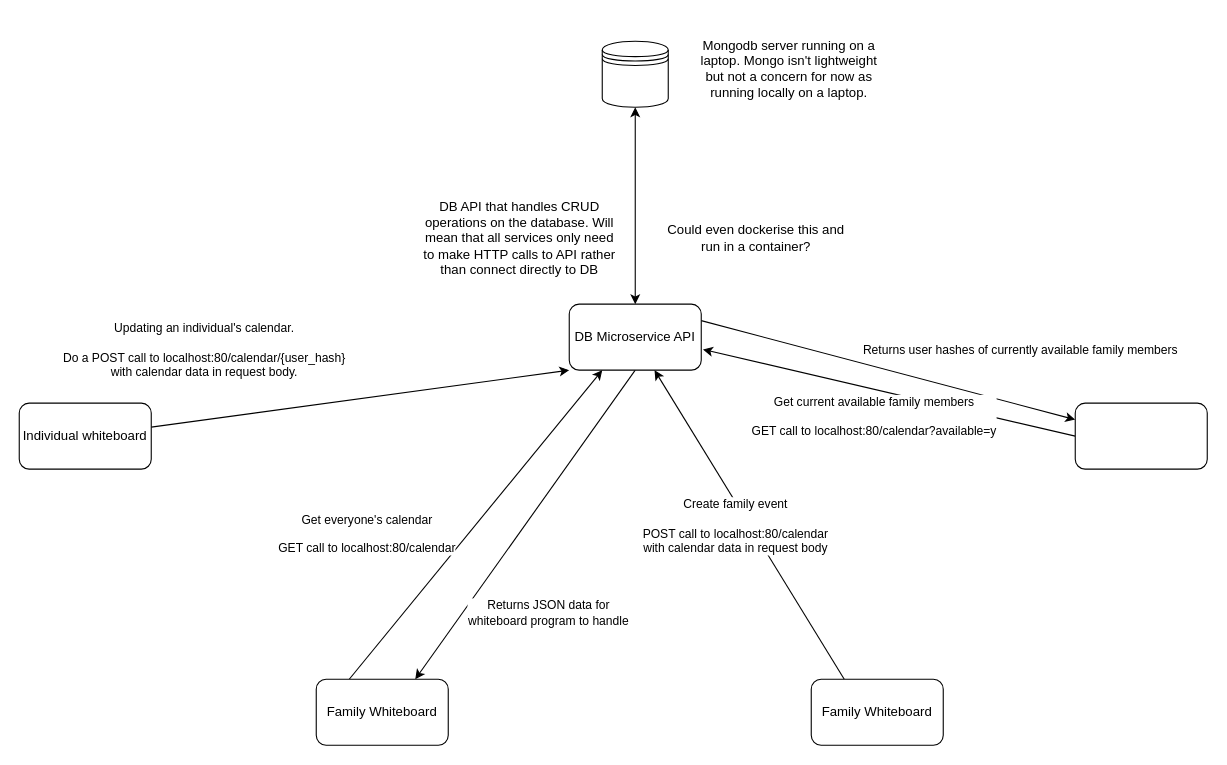
Some shapes in this 1227 by 765 pixel diagram are drawn without their labels. Each missing label, with the centre of its shape:
"Figurine display" belongs at pixel 1140 435.
"MongoDB" belongs at pixel 634 73.
